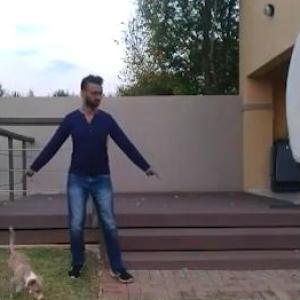land: (22, 90, 183, 273)
